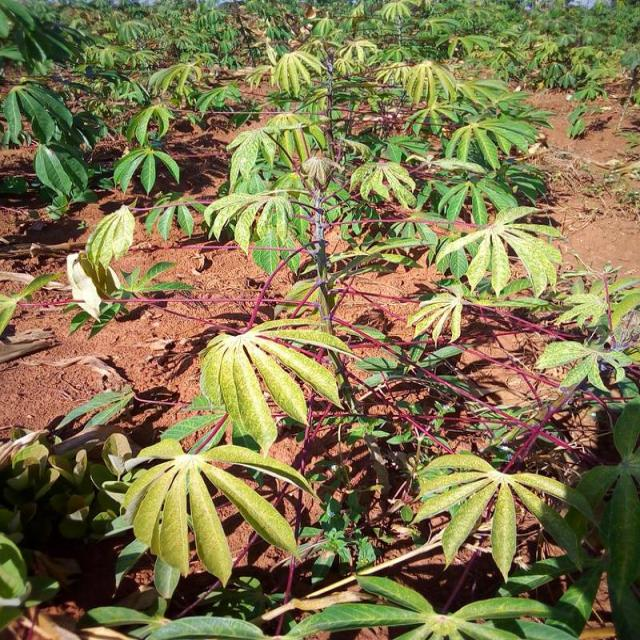cassava leaf: (120, 410, 317, 588), (414, 448, 594, 583), (198, 316, 349, 456)
